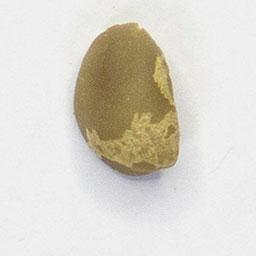defect: (68, 18, 184, 179)
